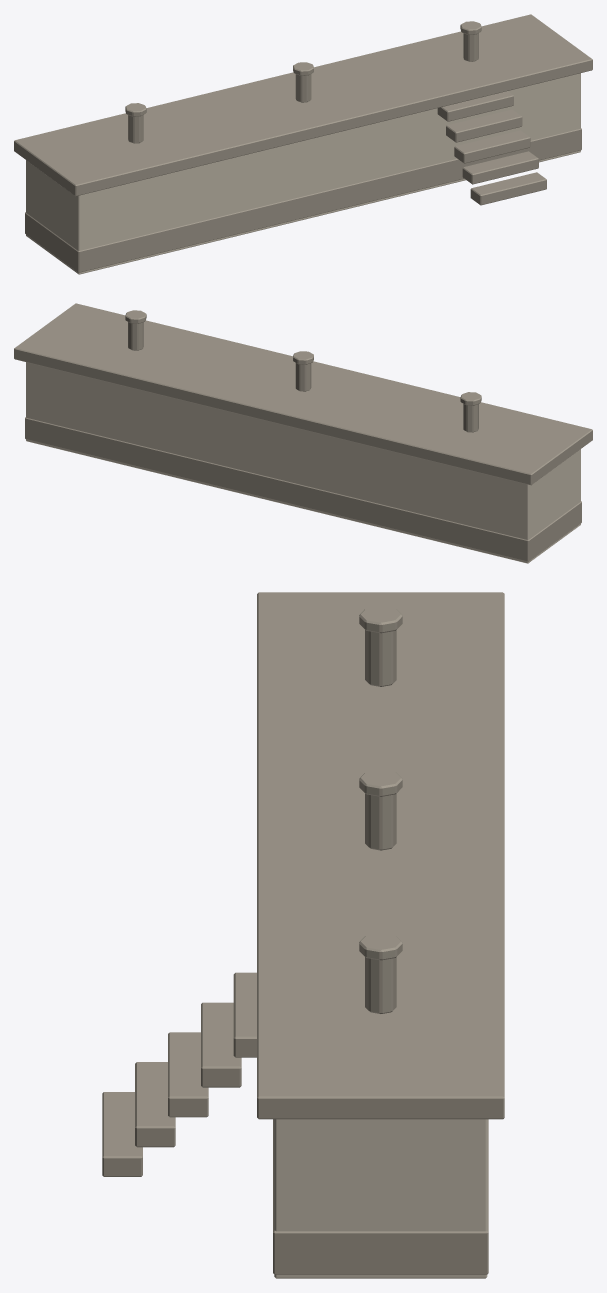
The model's file is TC_ENV_SeaWallQuay_V1.gltf.
The picture shows the model from 3 angles, top to bottom: view 1: azimuth 30°, elevation 25°; view 2: azimuth 150°, elevation 25°; view 3: azimuth 270°, elevation 25°; orthographic projection. The views are drawn at different scales.
Visible parts, largest first — view 1: TC_ENV_SeaWallQuay_V1; view 2: TC_ENV_SeaWallQuay_V1; view 3: TC_ENV_SeaWallQuay_V1.
Part boxes in pixels (<box>): TC_ENV_SeaWallQuay_V1: <box>14,14,592,274</box>; TC_ENV_SeaWallQuay_V1: <box>14,303,592,563</box>; TC_ENV_SeaWallQuay_V1: <box>102,592,504,1278</box>.
Bounding box in the file's own units: 12.36 × 2.92 × 4.16.
